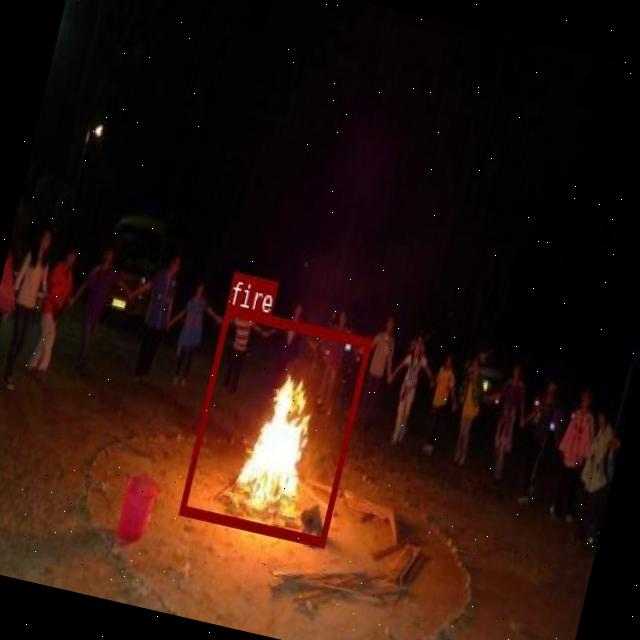fire: (178, 304, 372, 546)
